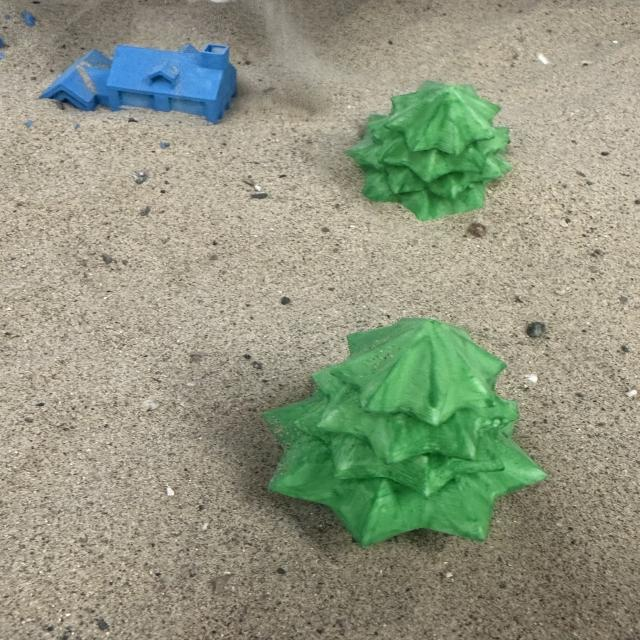house: (44, 41, 238, 124)
tree: (261, 316, 548, 548), (345, 78, 513, 222)
